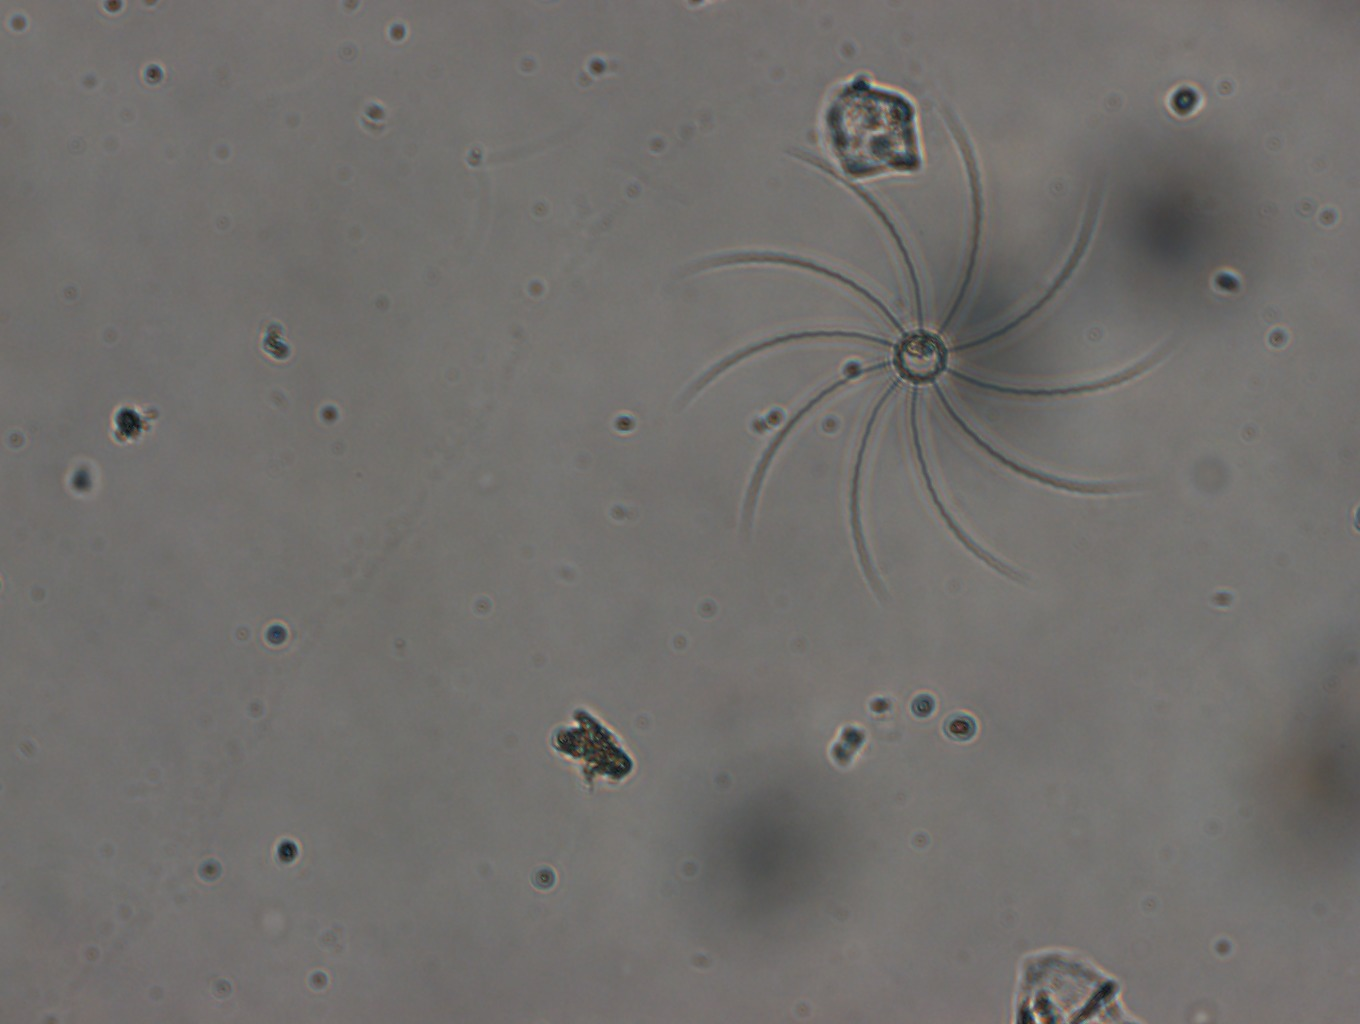bacteriastrum: (674, 99, 1176, 608)
